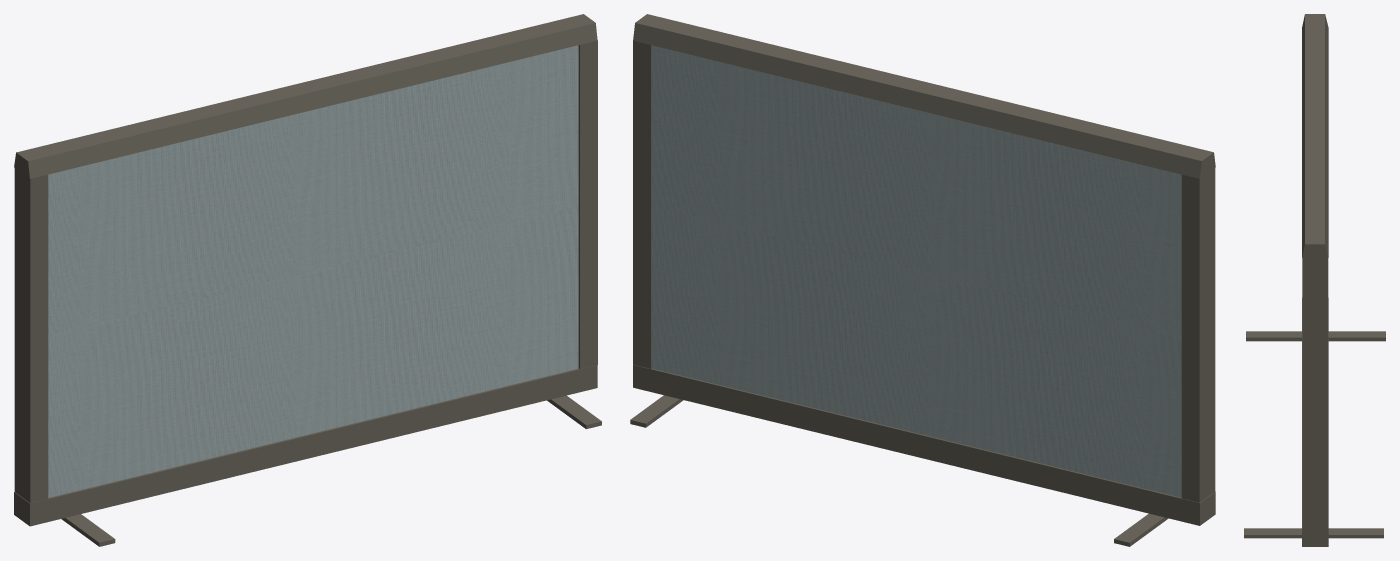
File: OfficeDivider_02.glb
3 views of the same model, side by side, from view 1: azimuth 30°, elevation 25°; view 2: azimuth 150°, elevation 25°; view 3: azimuth 270°, elevation 25° (orthographic). The views are drawn at different scales.
Parts seen in each view (by area): view 1: geom-OfficeDividerTwo300_11, geom-OfficeDividerTwo300_5, geom-OfficeDividerTwo300_1, geom-OfficeDividerTwo300_4; view 2: geom-OfficeDividerTwo300_9, geom-OfficeDividerTwo300_3, geom-OfficeDividerTwo300_1, geom-OfficeDividerTwo300_4; view 3: geom-OfficeDividerTwo300_2, geom-OfficeDividerTwo300_1, geom-OfficeDividerTwo300_3, geom-OfficeDividerTwo300_5.
Boxes of the visible parts, x1,y1,x2,y2 form: geom-OfficeDividerTwo300_11: (48,45,578,497); geom-OfficeDividerTwo300_5: (28,23,601,546); geom-OfficeDividerTwo300_1: (14,14,601,542); geom-OfficeDividerTwo300_4: (14,45,586,546); geom-OfficeDividerTwo300_9: (651,45,1181,497); geom-OfficeDividerTwo300_3: (630,23,1201,546); geom-OfficeDividerTwo300_1: (630,14,1215,542); geom-OfficeDividerTwo300_4: (646,45,1215,546); geom-OfficeDividerTwo300_2: (1244,244,1385,546); geom-OfficeDividerTwo300_1: (1244,14,1385,534); geom-OfficeDividerTwo300_3: (1325,14,1328,257); geom-OfficeDividerTwo300_5: (1302,15,1304,256).
Size of the model in its own units: 246 by 153 by 64.06.
Materials: 2 (2 with a texture image).
